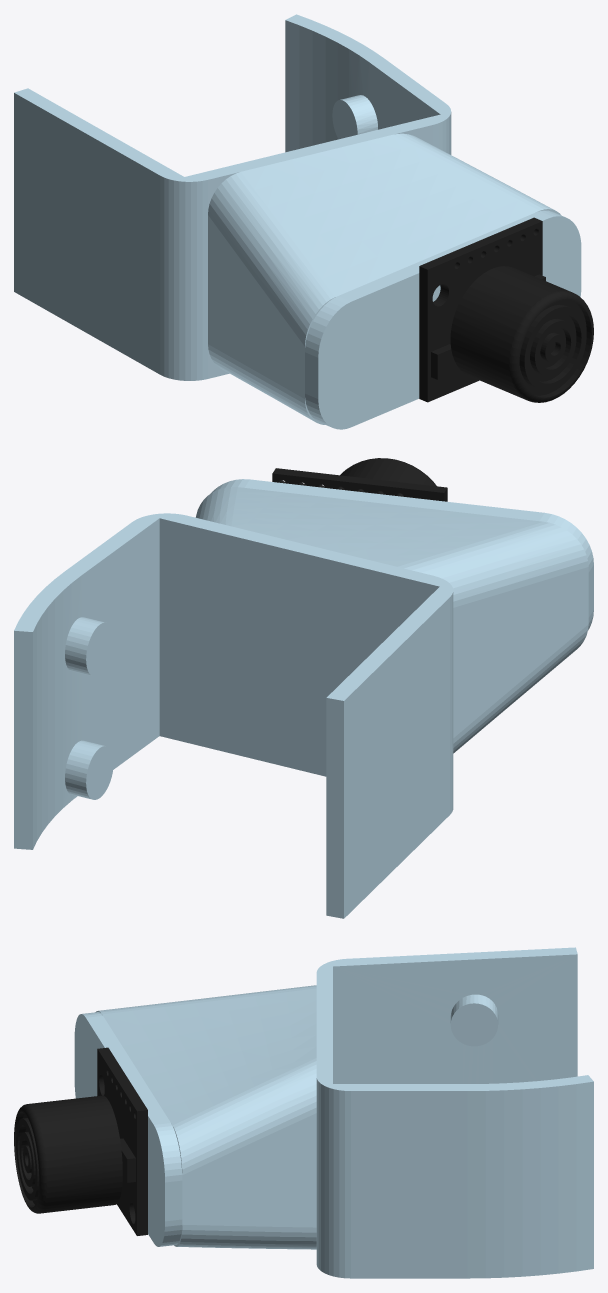
Rendered from Sonar_Bracket_Left.dae.
3 renders of one model, top to bottom at view 1: azimuth 30°, elevation 25°; view 2: azimuth 150°, elevation 25°; view 3: azimuth 270°, elevation 25°, orthographic. The views are drawn at different scales.
Visible parts, largest first — view 1: 5fb1c2f726618d12282af1eb (×2); view 2: 5fb1c2f726618d12282af1eb (×2); view 3: 5fb1c2f726618d12282af1eb (×2).
Boxes of the visible parts, box(x1,y1,x2,y2) form: 5fb1c2f726618d12282af1eb (×2): box(14, 14, 593, 429); 5fb1c2f726618d12282af1eb (×2): box(14, 458, 593, 918); 5fb1c2f726618d12282af1eb (×2): box(14, 947, 593, 1278).
Size of the model in its own units: 0.055 by 0.0842 by 0.03.
